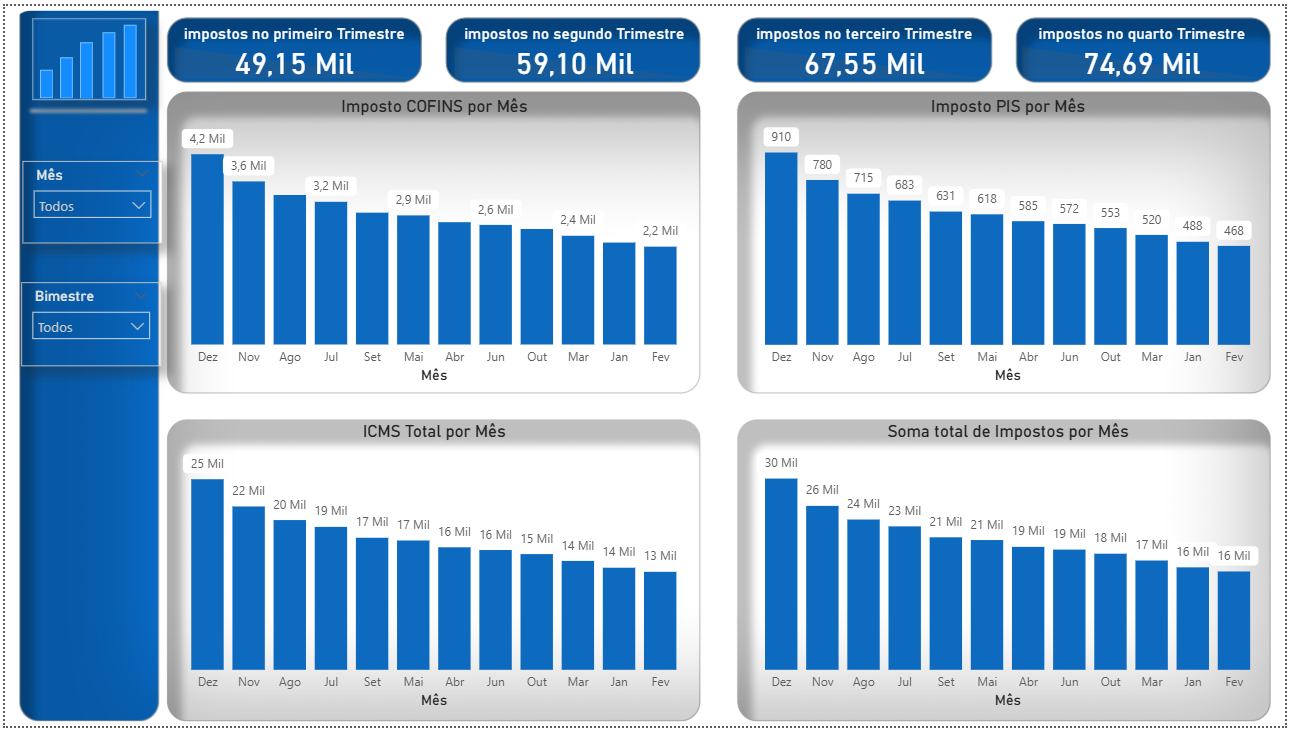

The dashboard page shown, as its layout file describes it:
{"tool":"powerbi","page":{"name":"Impostos","canvas":[1280,720],"ordinal":1},"visuals":[{"type":"image","box":[0,0,1280,720],"z":0},{"type":"kpi","title":"impostos no primeiro Trimestre","fields":{"TrendLine":["Power BI.primeiro bimestre"],"Indicator":["Sum(Power BI.Total_Impostos)"]},"box":[165,18.8,248.8,58.8],"z":1},{"type":"kpi","title":"impostos no segundo Trimestre","fields":{"Indicator":["Sum(Power BI.Total_Impostos)"],"TrendLine":["Power BI.Segundo Trimestre"]},"box":[445,18.8,248.8,58.8],"z":2},{"type":"kpi","title":"impostos no terceiro Trimestre","fields":{"Indicator":["Sum(Power BI.Total_Impostos)"],"TrendLine":["Power BI.Terceiro Trimestre"]},"box":[735,18.8,248.8,58.8],"z":3},{"type":"kpi","title":"impostos no quarto Trimestre","fields":{"Indicator":["Sum(Power BI.Total_Impostos)"],"TrendLine":["Power BI.Quarto Trimestre"]},"box":[1012.5,18.8,248.8,58.8],"z":4},{"type":"clusteredColumnChart","fields":{"Category":["Power BI.Mês"],"Y":["Sum(Power BI.COFINS)"]},"box":[165,90,528.8,292.5],"z":6},{"type":"clusteredColumnChart","fields":{"Category":["Power BI.Mês"],"Y":["Sum(Power BI.Total_Impostos)"]},"box":[738.8,414.4,528.6,292.8],"z":7},{"type":"columnChart","fields":{"Category":["Power BI.Mês"],"Y":["Sum(Power BI.ICMS Total)"]},"box":[165.2,414.4,528.6,292.8],"z":8},{"type":"clusteredColumnChart","fields":{"Category":["Power BI.Mês"],"Y":["Sum(Power BI.PIS)"]},"box":[738.8,90.1,528.6,292.8],"z":9},{"type":"slicer","fields":{"Values":["Power BI.Primeiro Trimestre","Power BI.Segundo Trimestre","Power BI.Terceiro Trimestre","Power BI.Quarto Trimestre"]},"box":[16.5,276.3,139.7,84.1],"z":10},{"type":"slicer","fields":{"Values":["Power BI.Mês"]},"box":[18,154.7,139.7,82.6],"z":11},{"type":"shape","box":[34.8,64,13,28.5],"z":12},{"type":"shape","box":[55.4,51.2,12.9,41.3],"z":13},{"type":"shape","box":[75.4,35.7,12.9,56.8],"z":14},{"type":"shape","box":[97,26.4,12.9,66.1],"z":15},{"type":"shape","box":[118.3,19,12.9,73.5],"z":16},{"type":"shape","box":[26.9,12.7,113.5,81.9],"z":17}]}

Visuals, with their boxes in screenshot pixels (x1, y1, x2, y2), scaled from the page's 1280x720 canvas onto the 1295x730 screenshot:
image: locate(0, 0, 1294, 729)
"impostos no primeiro Trimestre" kpi: locate(167, 19, 419, 79)
"impostos no segundo Trimestre" kpi: locate(450, 19, 702, 79)
"impostos no terceiro Trimestre" kpi: locate(744, 19, 995, 79)
"impostos no quarto Trimestre" kpi: locate(1024, 19, 1276, 79)
clusteredColumnChart - Power BI.Mês x Sum(Power BI.COFINS): locate(167, 91, 702, 388)
clusteredColumnChart - Power BI.Mês x Sum(Power BI.Total_Impostos): locate(747, 420, 1282, 717)
columnChart - Power BI.Mês x Sum(Power BI.ICMS Total): locate(167, 420, 702, 717)
clusteredColumnChart - Power BI.Mês x Sum(Power BI.PIS): locate(747, 91, 1282, 388)
slicer - Power BI.Primeiro Trimestre x Power BI.Segundo Trimestre: locate(17, 280, 158, 365)
slicer - Power BI.Mês: locate(18, 157, 160, 241)
shape: locate(35, 65, 48, 94)
shape: locate(56, 52, 69, 94)
shape: locate(76, 36, 89, 94)
shape: locate(98, 27, 111, 94)
shape: locate(120, 19, 133, 94)
shape: locate(27, 13, 142, 96)
